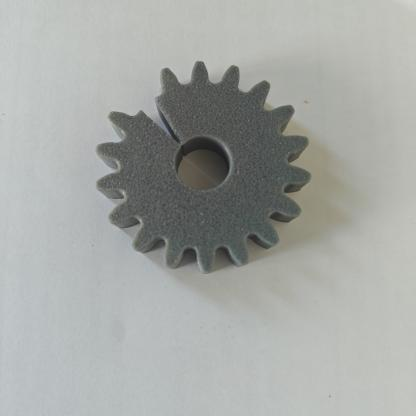defect: (101, 73, 203, 172)
gear: (80, 48, 324, 290)
